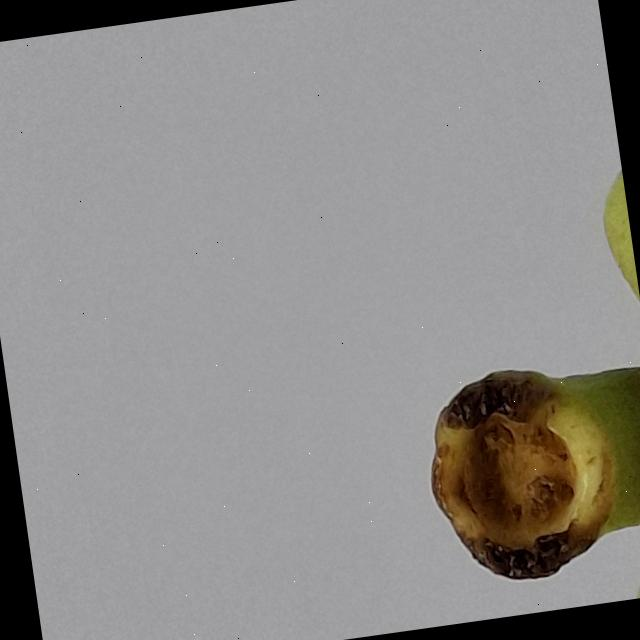mangosteen: (176, 0, 640, 640)
